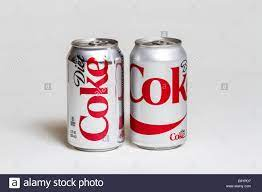can: (124, 34, 195, 151), (63, 34, 126, 160)
